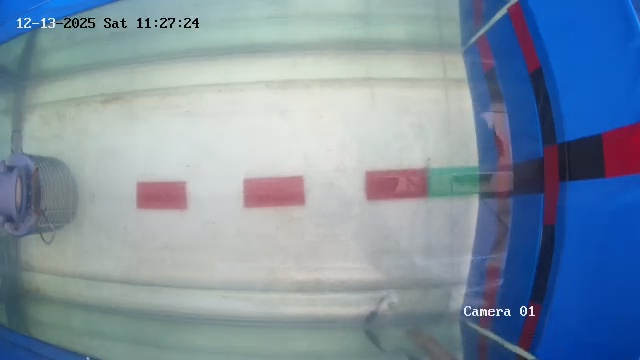fish: (290, 312, 330, 330)
